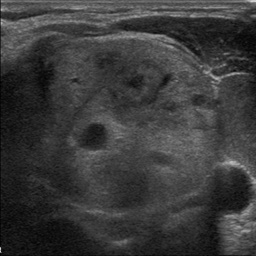mass: (39, 40, 220, 208)
